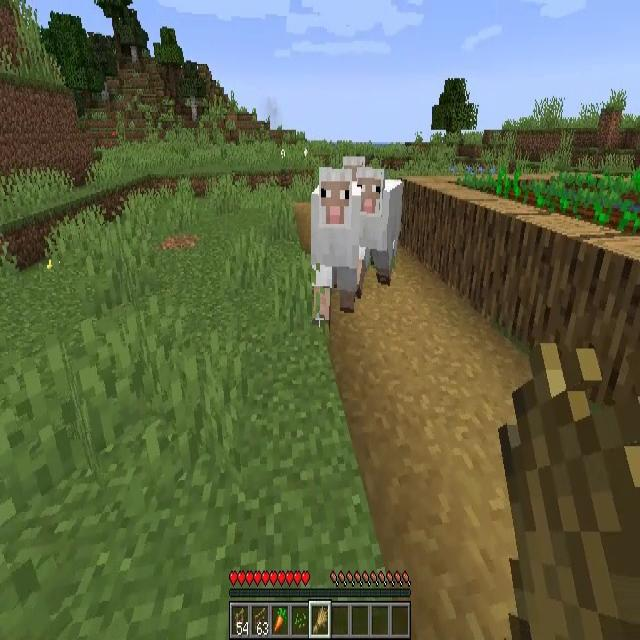sheep: (312, 168, 360, 322), (357, 171, 404, 291)
